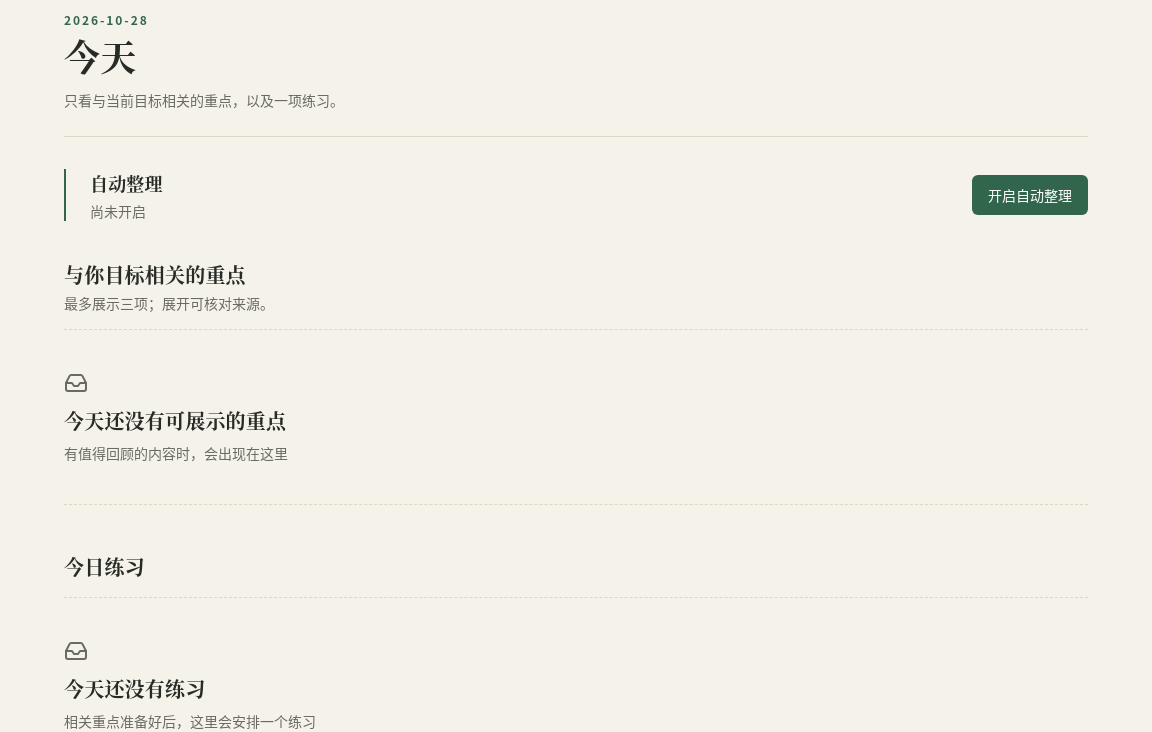
Today 服务端状态与设置入口 › 自动整理一次提交使用 DTO 修订，pending 防重复，失败保留状态
Step 1. Click the button "开启自动整理" → {"x": 1030, "y": 195}, box [972,175,1088,215]
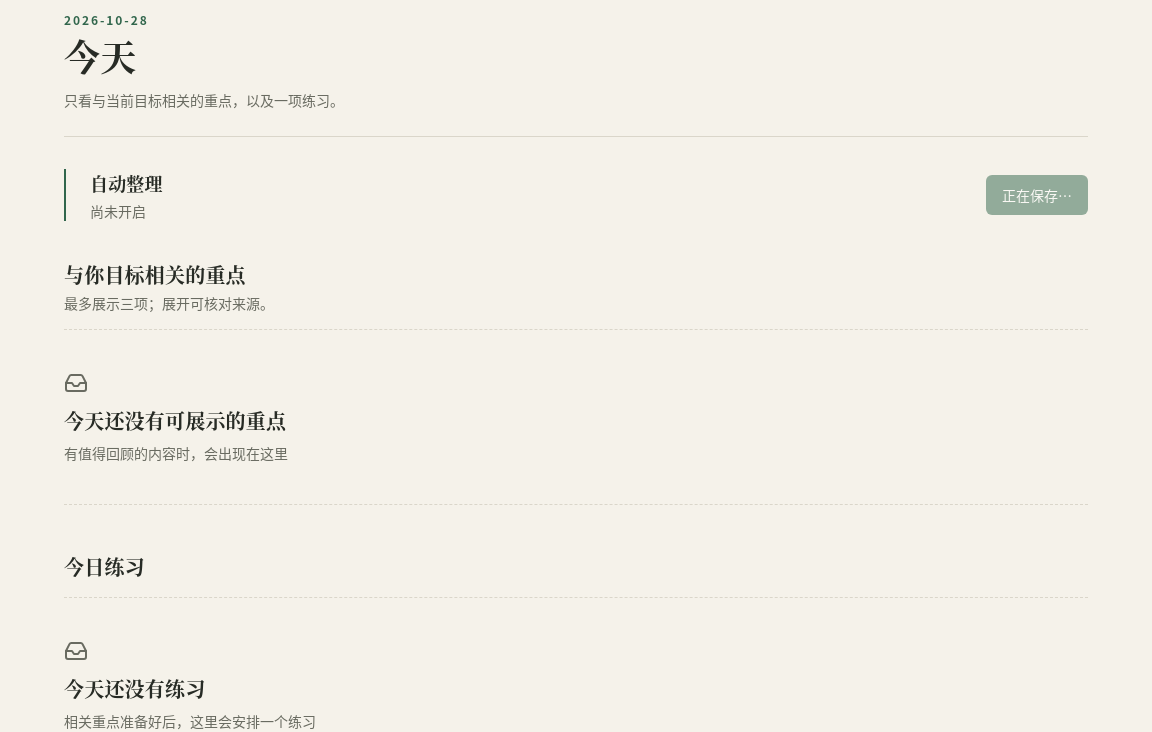
Step 2. Click the button named "开启自动整理" → {"x": 1037, "y": 195}, box [986,175,1088,215]
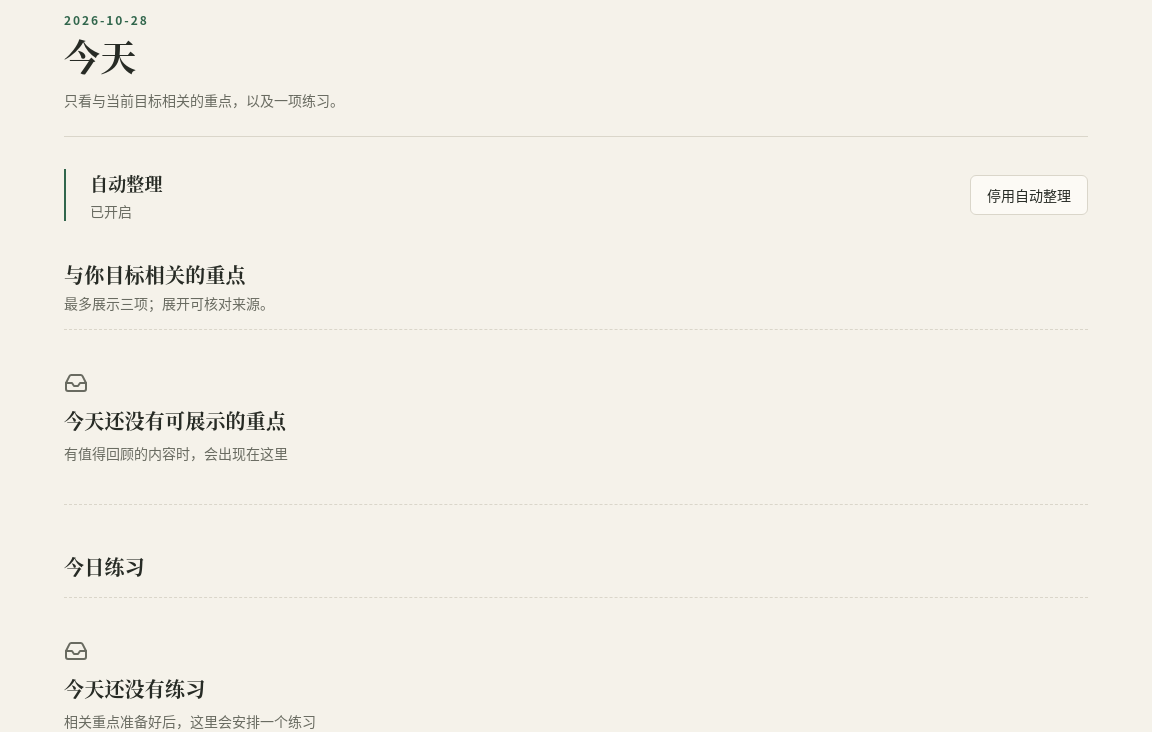
Step 3. Click the button "停用自动整理" → {"x": 1029, "y": 195}, box [970,175,1088,215]
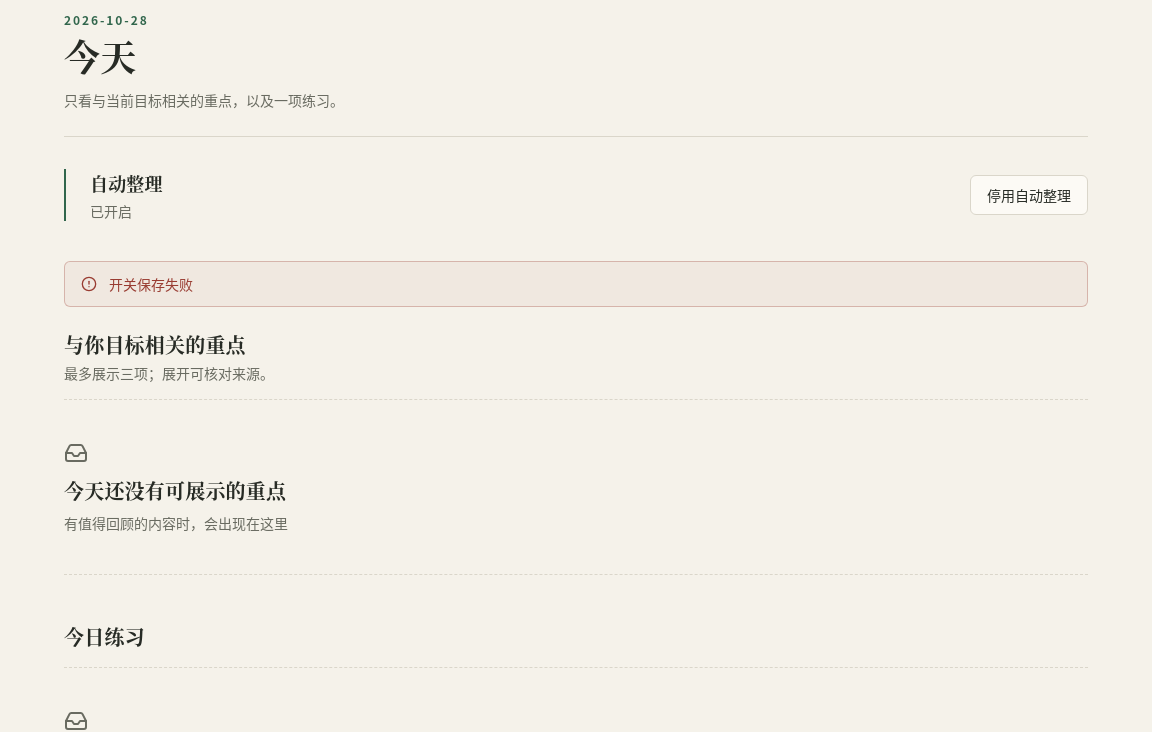
Now the button "停用自动整理" is shown, box [970,175,1088,215]
Now the text "开关保存失败" is shown, box [109,274,193,294]
